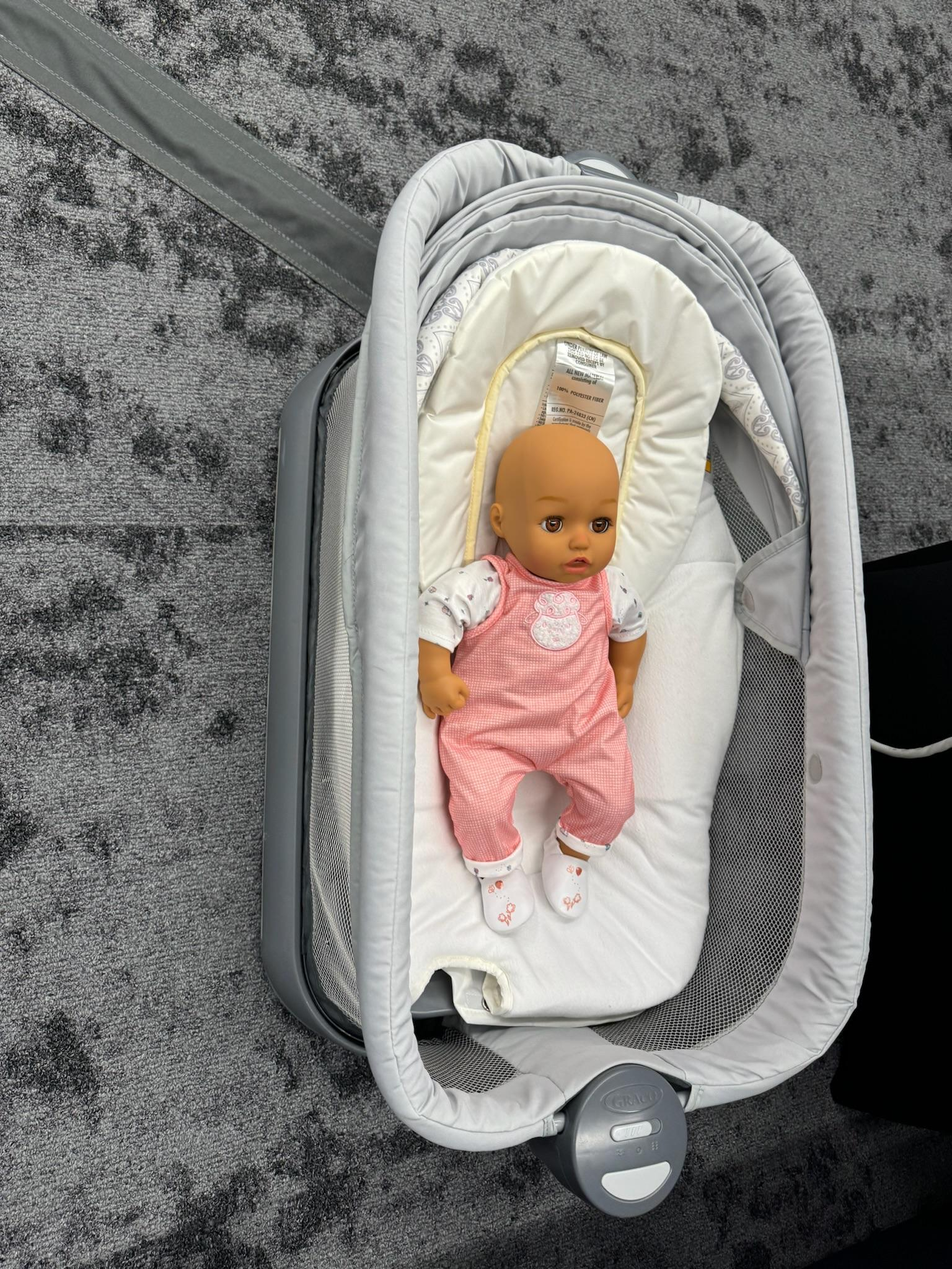baby: (426, 418, 656, 940)
